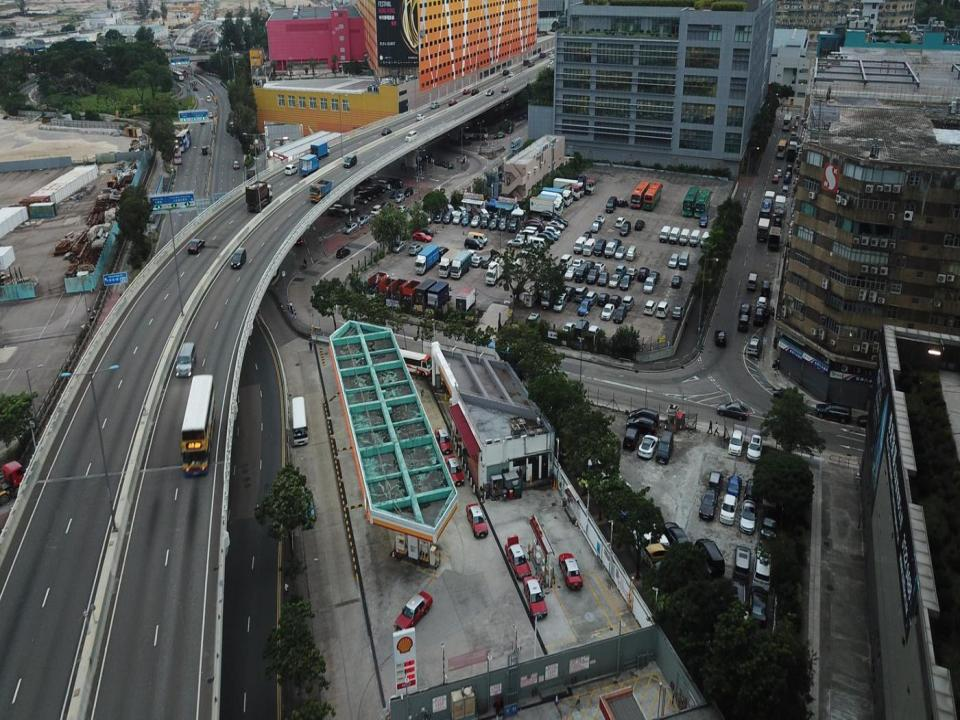bus: (175, 375, 216, 477), (398, 345, 430, 383), (289, 396, 310, 446), (244, 179, 273, 211), (646, 184, 664, 211), (682, 186, 698, 216), (176, 129, 192, 153), (697, 190, 710, 218), (776, 136, 788, 158), (170, 70, 185, 83), (782, 110, 790, 132)
car: (391, 591, 432, 630), (592, 477, 637, 508), (505, 536, 534, 578), (629, 524, 666, 556), (745, 588, 771, 632), (524, 574, 547, 622), (608, 503, 646, 531), (558, 551, 584, 590), (814, 402, 854, 426), (665, 522, 692, 556), (466, 502, 490, 539), (770, 386, 802, 411), (640, 541, 672, 565), (699, 483, 718, 522), (627, 407, 662, 428), (625, 418, 658, 440), (760, 514, 778, 553), (857, 410, 887, 432), (574, 458, 605, 479), (753, 549, 770, 587), (716, 402, 749, 420), (740, 499, 756, 536), (744, 477, 760, 514), (656, 430, 673, 464), (724, 474, 742, 506), (446, 453, 462, 488), (745, 433, 764, 462), (721, 493, 736, 529), (708, 469, 724, 500), (434, 423, 451, 452), (638, 432, 655, 461), (632, 178, 648, 207), (728, 429, 744, 457), (229, 248, 248, 268), (186, 237, 206, 254), (745, 336, 762, 356), (715, 328, 728, 348), (553, 294, 566, 314), (669, 271, 684, 288), (761, 277, 772, 300), (413, 231, 431, 245), (754, 308, 766, 328), (342, 154, 357, 169), (466, 236, 483, 249), (672, 304, 684, 322), (588, 324, 600, 342), (334, 245, 350, 258), (613, 307, 625, 324), (284, 162, 298, 176), (391, 239, 404, 254), (667, 252, 678, 269), (355, 196, 369, 209), (602, 304, 612, 322), (390, 176, 405, 188), (336, 202, 348, 216), (586, 292, 597, 307), (593, 260, 604, 275), (620, 221, 629, 239), (579, 301, 591, 314), (643, 301, 654, 315), (623, 296, 634, 310), (585, 270, 596, 284), (370, 204, 381, 218), (564, 321, 573, 337), (344, 222, 356, 234), (358, 188, 374, 197), (396, 204, 407, 217), (634, 218, 644, 232), (434, 212, 442, 229), (328, 207, 340, 218), (615, 246, 625, 259), (622, 275, 630, 291), (616, 261, 624, 277), (775, 166, 784, 180), (643, 279, 652, 293), (598, 272, 607, 286), (461, 213, 470, 227), (756, 295, 767, 306), (358, 215, 369, 226), (769, 174, 779, 186), (699, 213, 707, 228), (608, 294, 620, 304), (444, 213, 452, 228), (409, 244, 421, 254), (379, 126, 392, 135), (499, 218, 508, 231), (638, 266, 646, 280), (628, 266, 636, 280), (471, 213, 479, 227), (429, 100, 440, 110), (389, 189, 400, 199), (610, 273, 616, 291), (200, 144, 209, 156), (378, 179, 390, 188), (566, 266, 574, 279), (490, 216, 496, 233), (448, 98, 458, 108), (231, 160, 240, 171), (591, 222, 598, 236), (367, 188, 379, 196), (349, 205, 356, 218), (597, 216, 606, 226), (396, 194, 406, 203), (372, 184, 384, 191), (650, 272, 658, 282), (486, 87, 494, 97), (480, 216, 488, 226), (406, 187, 414, 197), (453, 214, 459, 227), (472, 88, 479, 99), (501, 86, 509, 94), (206, 111, 214, 119), (599, 295, 606, 304), (463, 87, 470, 96), (205, 94, 212, 103), (417, 113, 424, 121)
truck: (552, 176, 586, 200), (530, 196, 562, 216), (412, 279, 435, 306), (539, 188, 568, 209), (365, 266, 386, 294), (308, 179, 332, 203), (299, 154, 322, 178), (418, 247, 436, 274), (452, 251, 470, 278), (429, 283, 449, 307), (378, 276, 397, 301), (488, 255, 506, 281), (388, 281, 407, 305), (546, 189, 573, 205), (441, 248, 456, 276), (458, 284, 476, 307), (403, 279, 418, 306), (309, 142, 333, 158), (785, 140, 799, 164), (774, 193, 787, 217), (761, 189, 774, 213), (758, 211, 768, 240), (188, 79, 199, 92)
van: (692, 536, 725, 581), (173, 341, 197, 377), (733, 544, 751, 583), (738, 302, 752, 332), (622, 426, 636, 452), (468, 229, 489, 244), (575, 316, 586, 339), (690, 226, 701, 248), (679, 250, 691, 270), (746, 271, 758, 290), (658, 224, 670, 243), (657, 300, 668, 319), (680, 226, 690, 246), (605, 238, 615, 258), (584, 236, 594, 256), (573, 237, 584, 255), (605, 195, 615, 214), (671, 226, 680, 246), (559, 252, 571, 267), (577, 264, 588, 280), (508, 218, 519, 234), (405, 130, 417, 144), (626, 244, 636, 260), (576, 284, 584, 301), (596, 241, 603, 258), (702, 232, 708, 249)
